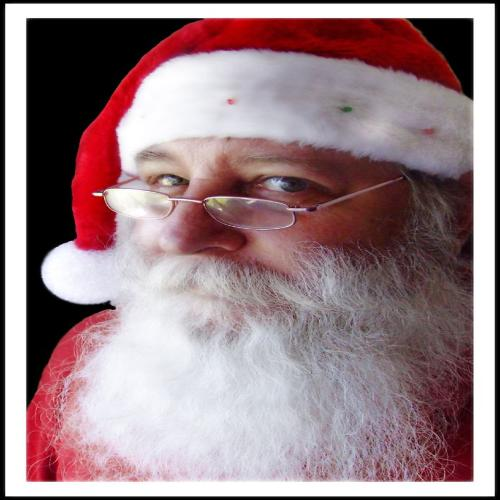Santa: (25, 18, 474, 482)
